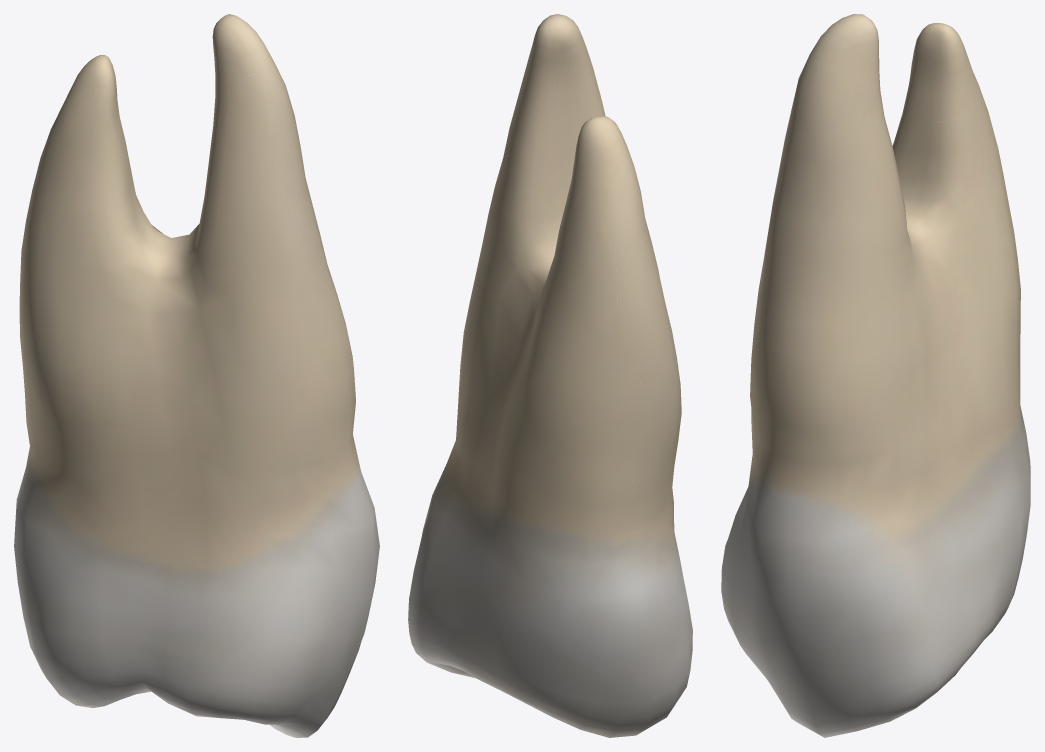
The model's file is tooth-24.glb.
3 views of the same model, side by side, from view 1: azimuth 30°, elevation 25°; view 2: azimuth 150°, elevation 25°; view 3: azimuth 270°, elevation 25° (orthographic). The views are drawn at different scales.
Parts seen in each view (by area): view 1: ZBrushPolyMesh3D3_blinn16_0; view 2: ZBrushPolyMesh3D3_blinn16_0; view 3: ZBrushPolyMesh3D3_blinn16_0.
Part boxes in pixels (left/top/right/bottom): ZBrushPolyMesh3D3_blinn16_0: left=14, top=14, right=379, bottom=737; ZBrushPolyMesh3D3_blinn16_0: left=408, top=14, right=692, bottom=737; ZBrushPolyMesh3D3_blinn16_0: left=721, top=14, right=1030, bottom=737.
Size of the model in its own units: 0.3141 by 0.7485 by 0.3043.
1 material, 1 textured.
